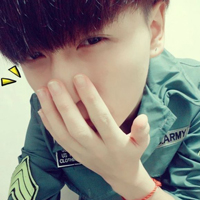face: (19, 1, 147, 141)
